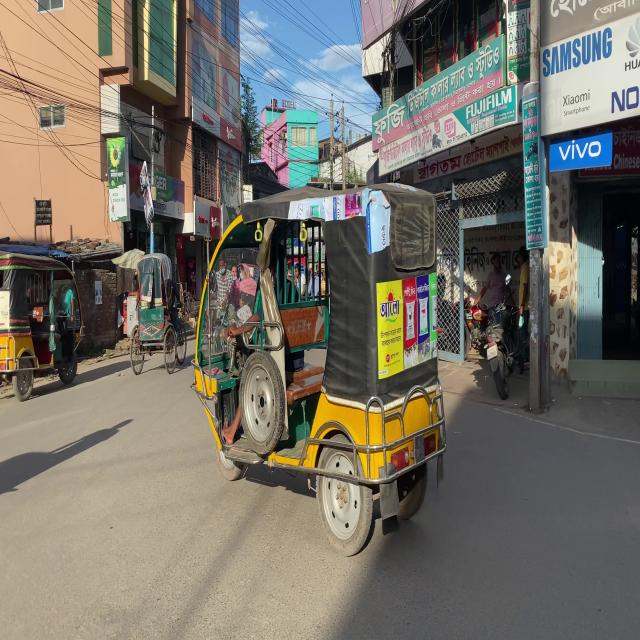bike: (477, 286, 525, 394)
rickshaw: (203, 191, 447, 504), (0, 227, 84, 399), (128, 241, 179, 375)
